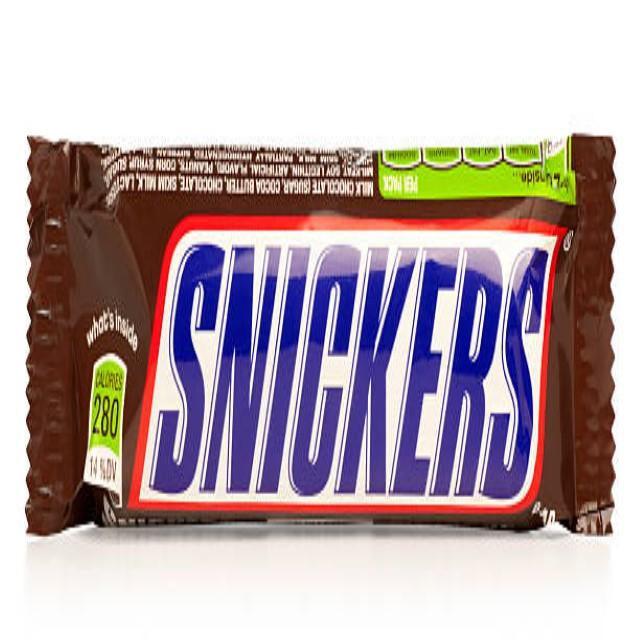snickers_chocolate: (31, 130, 596, 523)
